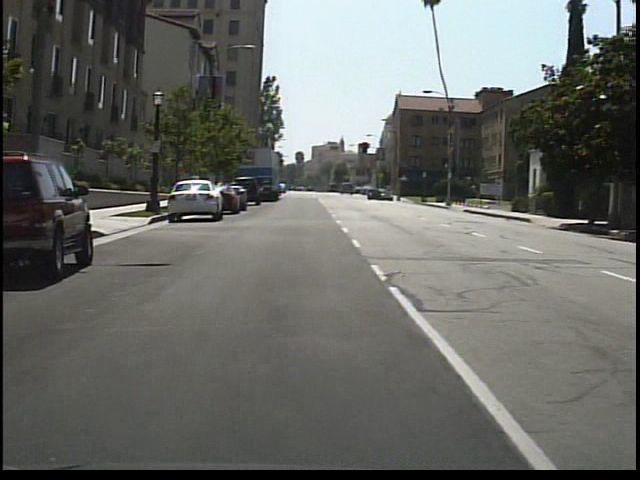person: (143, 167, 161, 213)
